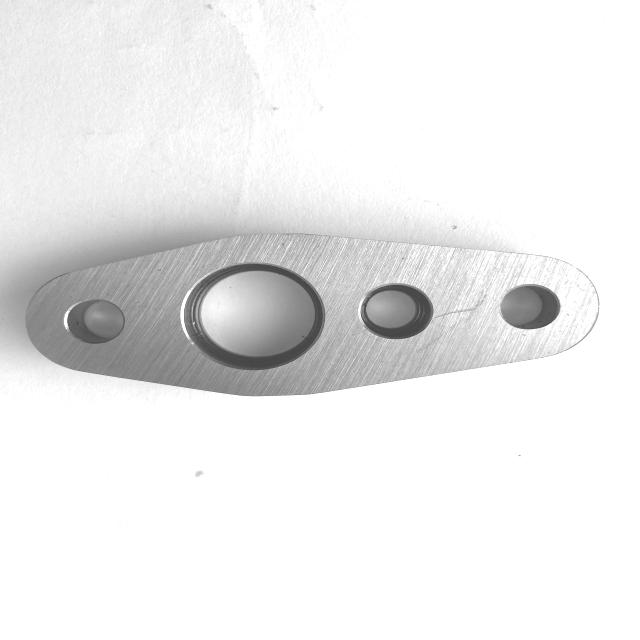chap: (154, 267, 162, 272)
lines: (438, 309, 476, 316), (352, 329, 368, 336)
